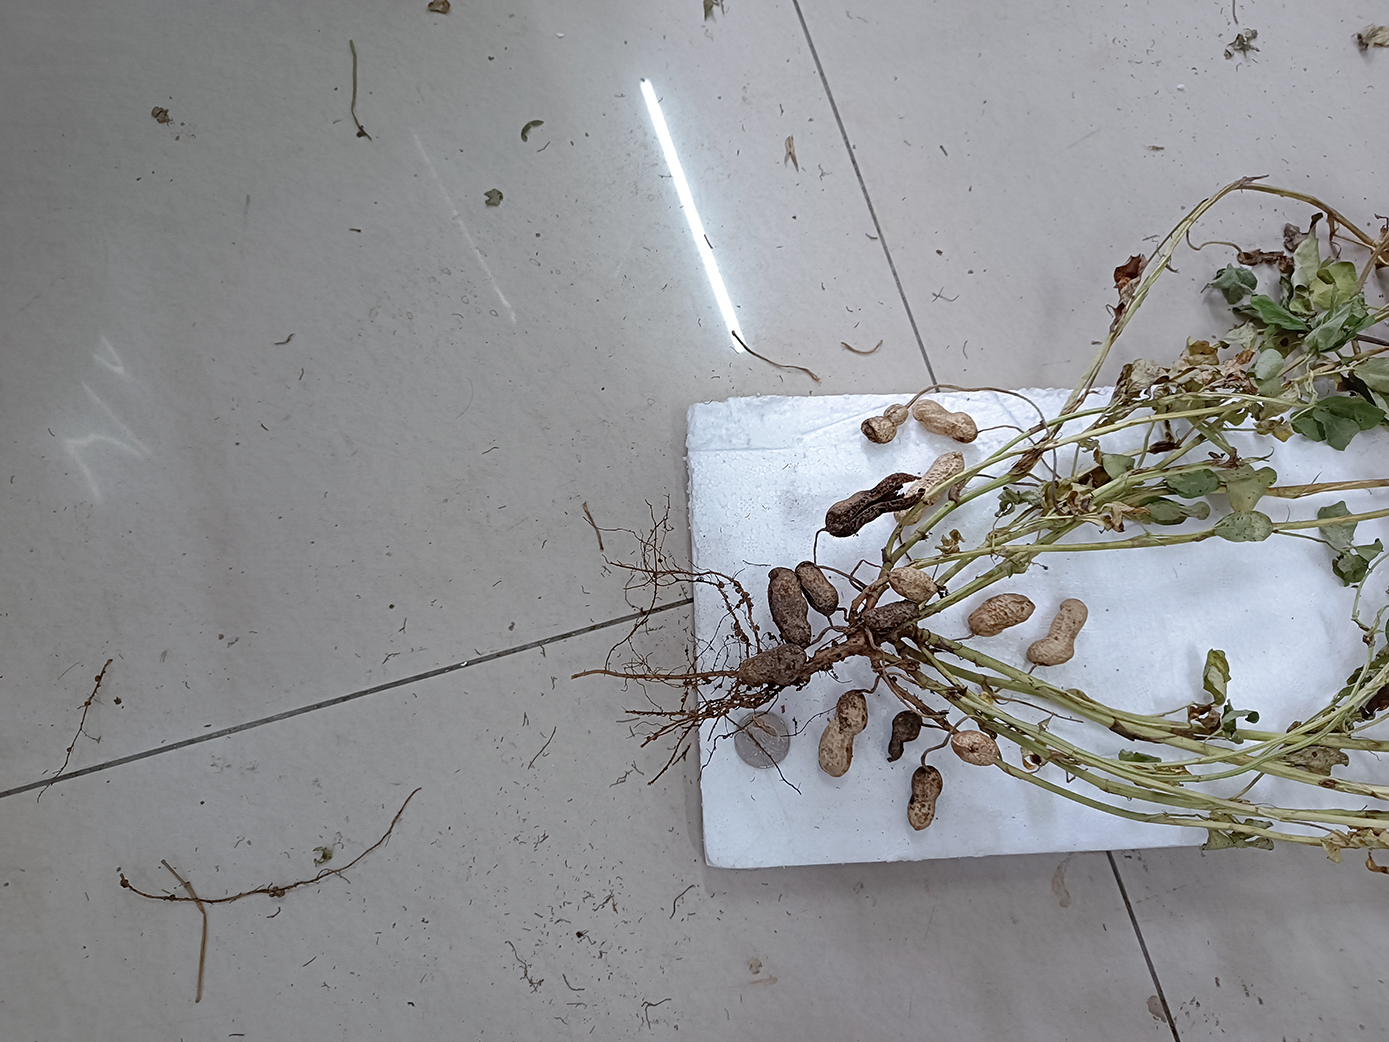h: (893, 451, 965, 526), (817, 688, 868, 777), (1026, 598, 1088, 665), (966, 592, 1035, 637), (911, 400, 979, 442), (863, 403, 908, 443), (887, 567, 938, 603), (949, 729, 999, 765)
l: (825, 471, 926, 539), (766, 566, 812, 646), (736, 645, 806, 685), (906, 764, 944, 831), (795, 560, 838, 615), (853, 599, 921, 632), (886, 711, 923, 763)
